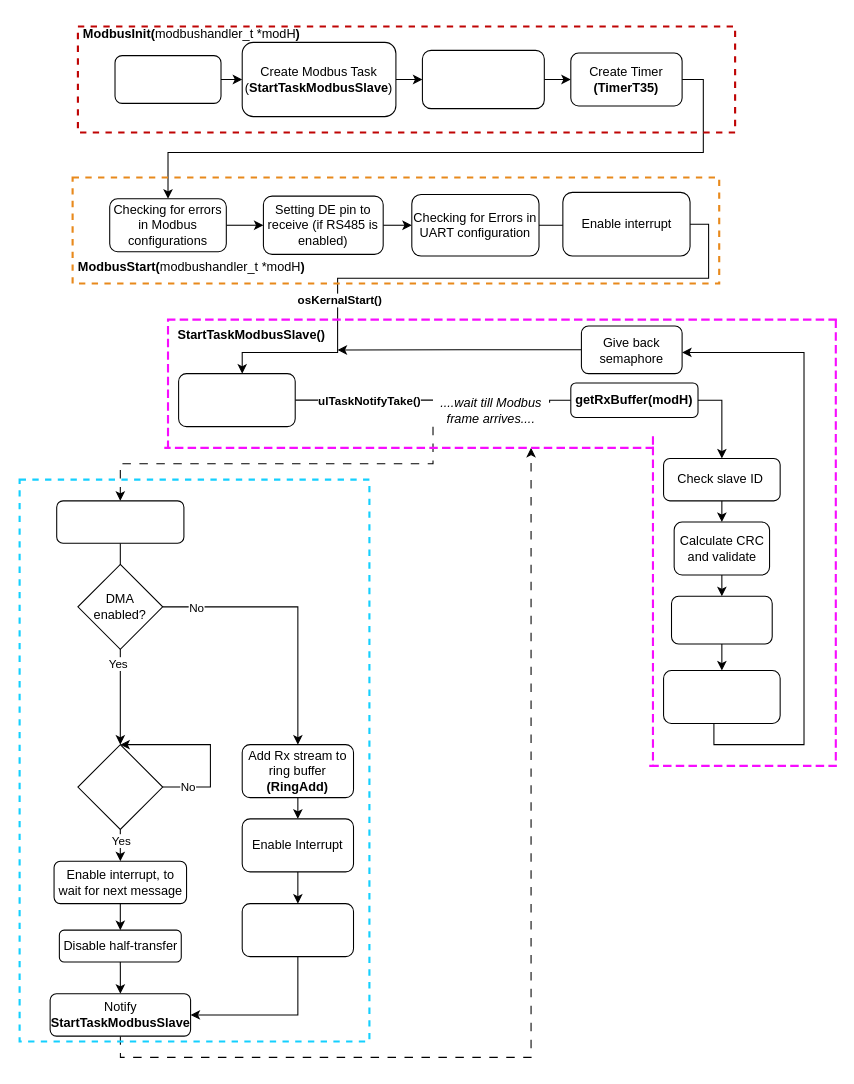
Image size: 854x1084. Some labels were removed from this diagram. The shapes that lost their labels are listed below. From the top down, each one's centre as x and y in pixels, then its label:
At (x=167, y=79): "Initialize the RingBuffer".
At (x=482, y=79): "Create Semaphore (ModBusSphr)".
At (x=236, y=400): "Setting last error to zero".
At (x=120, y=521): "Check UART handle and UART config".
At (x=721, y=619): "Take semaphore".
At (x=721, y=696): "Execute requested function and respond".
At (x=120, y=786): "Byte Received?".
At (x=297, y=930): "Reset Timer".
